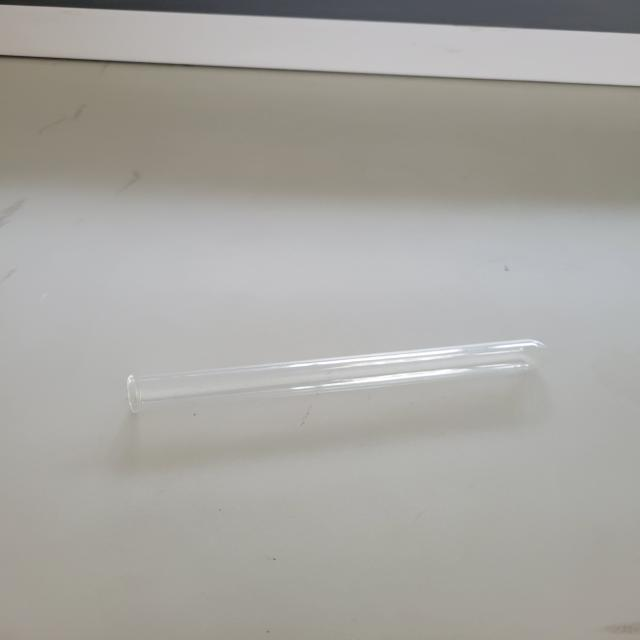Test_Tube: (96, 289, 592, 437)
